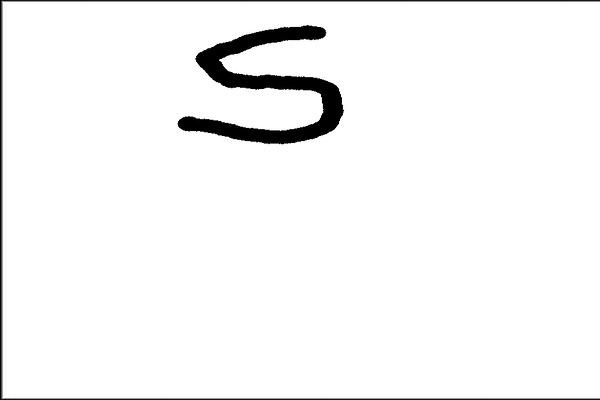S: (172, 18, 352, 149)
